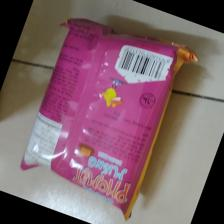Oishi_phomat: (19, 16, 198, 222)
